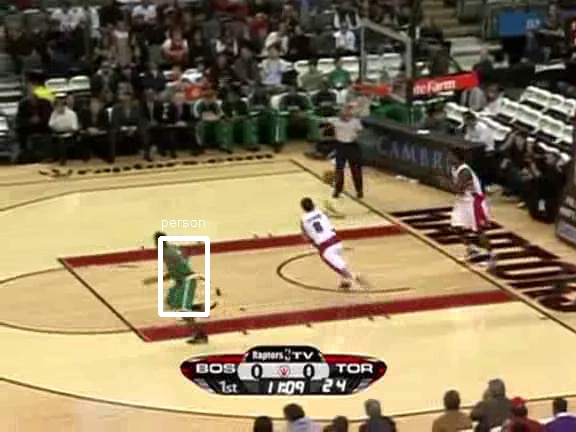person: (167, 238, 201, 319), (166, 238, 200, 319), (168, 238, 202, 319), (167, 237, 201, 318), (167, 239, 201, 320)
target_negative: (387, 71, 491, 408), (6, 49, 101, 403), (296, 239, 392, 408), (517, 307, 573, 381), (313, 132, 454, 152), (566, 316, 576, 419)
